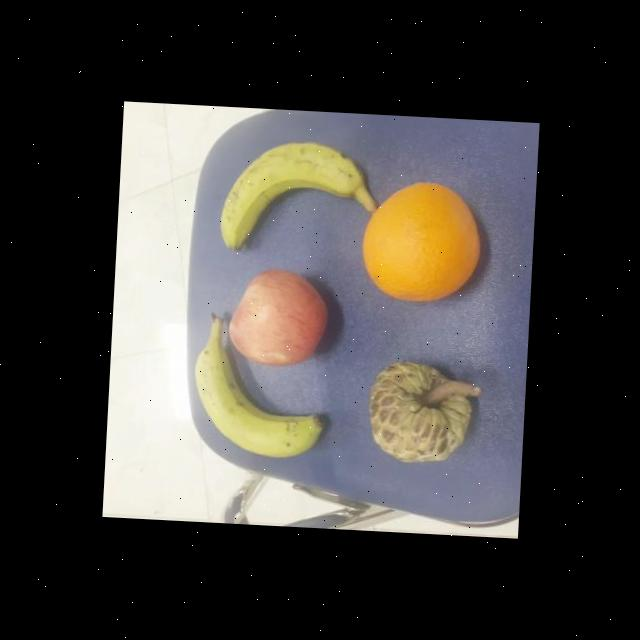Sakya fruit: (366, 359, 471, 465)
apple: (225, 266, 328, 369)
banana: (190, 314, 328, 460), (216, 136, 366, 259)
orange: (357, 178, 481, 306)
